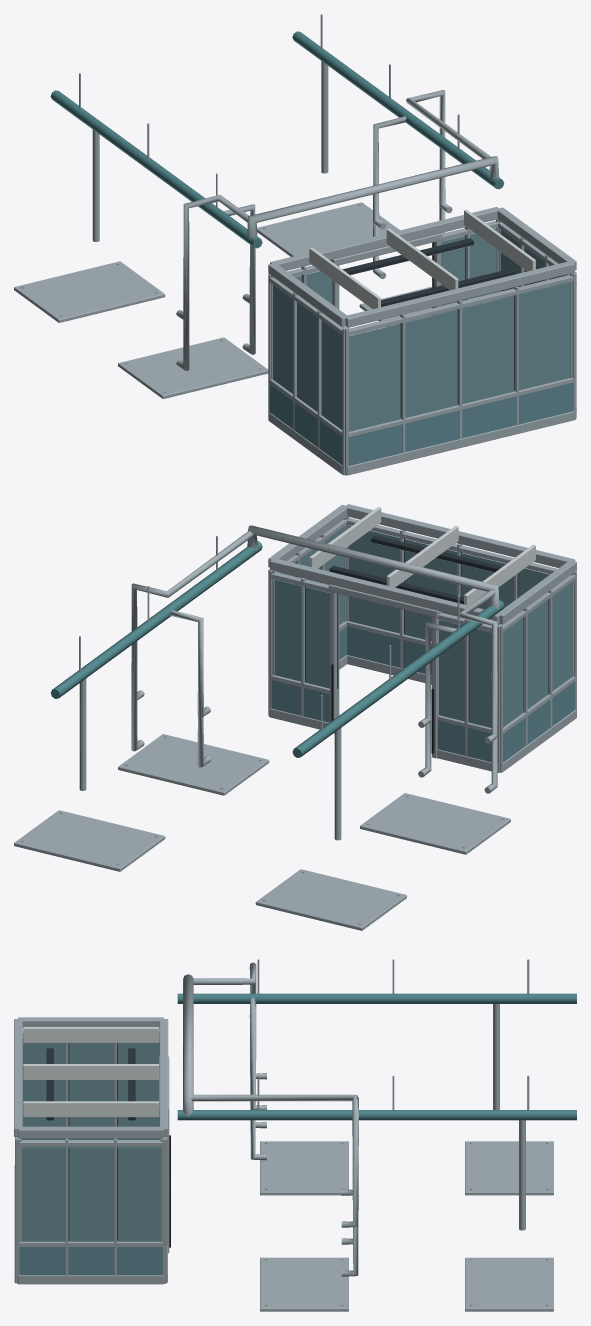
File: SF_C03_Interior.fbx
3 renders of one model, top to bottom at view 1: azimuth 30°, elevation 25°; view 2: azimuth 150°, elevation 25°; view 3: azimuth 270°, elevation 25°, orthographic.
Parts seen in each view (by area): view 1: SF_C03_Interior; view 2: SF_C03_Interior; view 3: SF_C03_Interior.
Part boxes in pixels (bbox=[...]): SF_C03_Interior: bbox=[14, 14, 576, 475]; SF_C03_Interior: bbox=[14, 504, 576, 930]; SF_C03_Interior: bbox=[14, 959, 576, 1311].
Bounding box in the file's own units: 735 × 430 × 1043.
